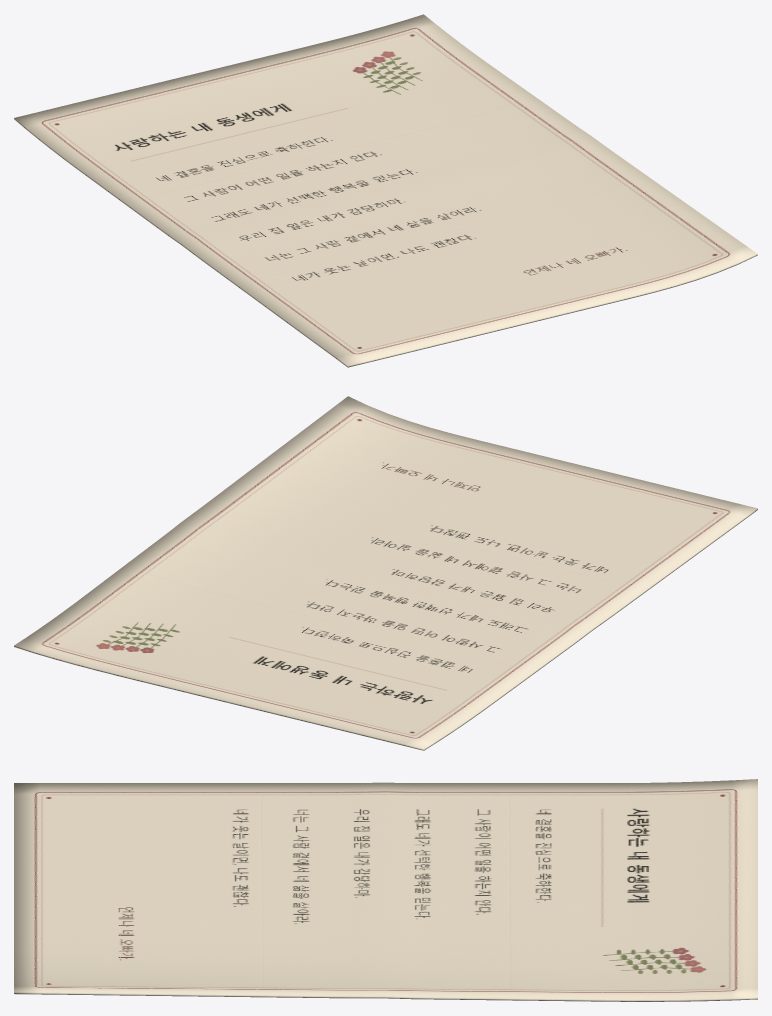
The model's file is SM_Collectible_Letter.glb.
The picture shows the model from 3 angles, top to bottom: view 1: azimuth 30°, elevation 25°; view 2: azimuth 150°, elevation 25°; view 3: azimuth 270°, elevation 25°; orthographic projection. The views are drawn at different scales.
Parts seen in each view (by area): view 1: SM_Collectible_Letter; view 2: SM_Collectible_Letter; view 3: SM_Collectible_Letter.
Part boxes in pixels (left/top/right/bottom): SM_Collectible_Letter: left=14, top=14, right=757, bottom=367; SM_Collectible_Letter: left=14, top=396, right=757, bottom=750; SM_Collectible_Letter: left=14, top=779, right=757, bottom=1001.
Bounding box in the file's own units: 0.1751 × 0.00565 × 0.247.
2 materials, 1 textured.
